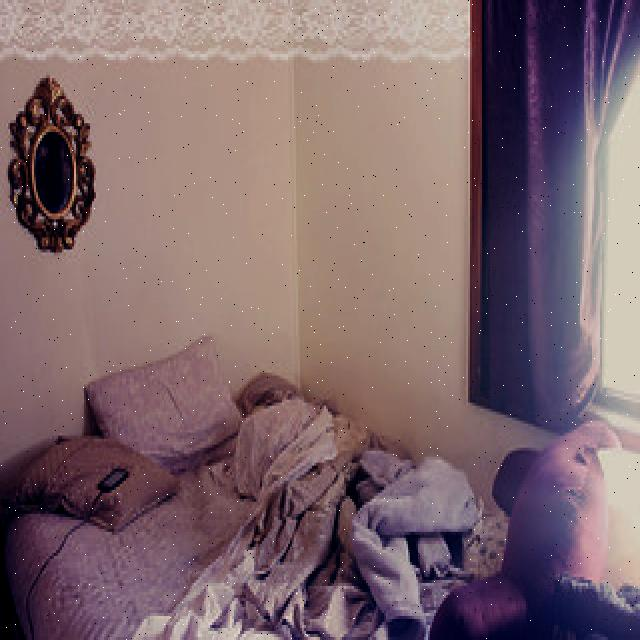bed: (0, 330, 604, 640)
